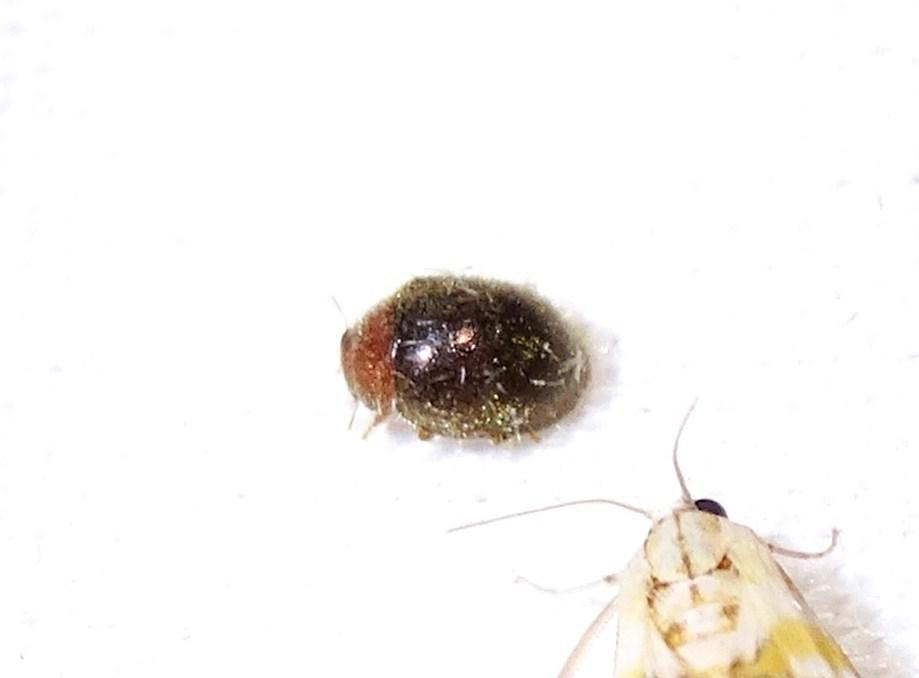ladybug: (333, 261, 609, 469)
